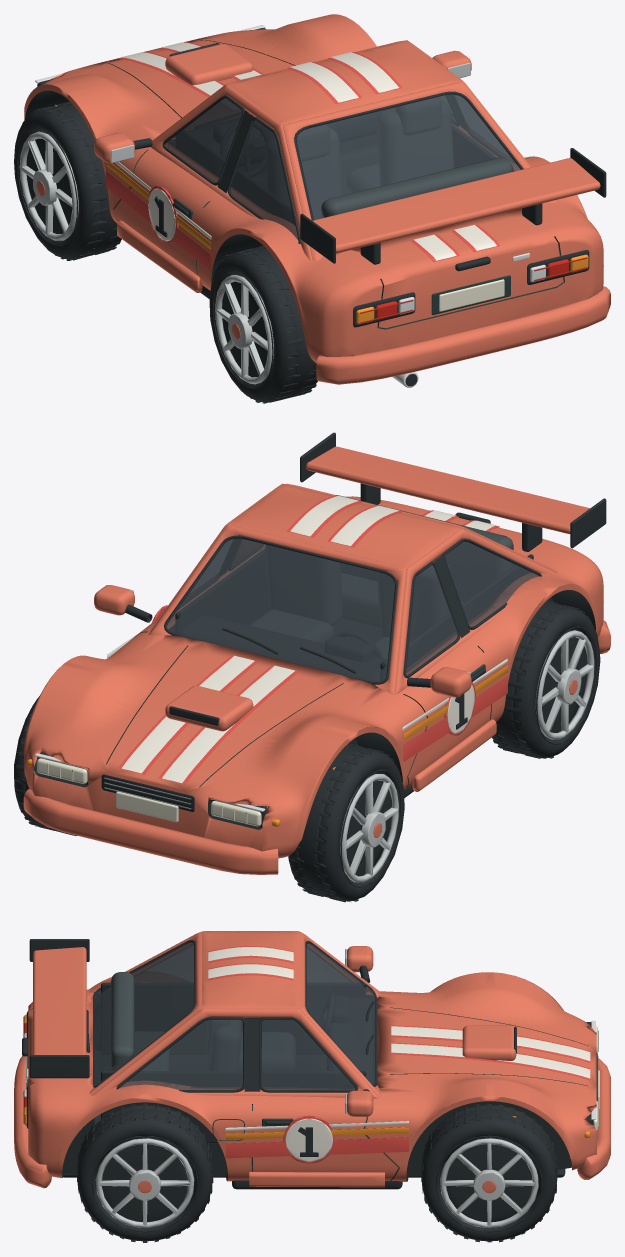
Rendered from zenith_lod1.fbx.
The picture shows the model from 3 angles, top to bottom: view 1: azimuth 30°, elevation 25°; view 2: azimuth 150°, elevation 25°; view 3: azimuth 270°, elevation 25°; orthographic projection. The views are drawn at different scales.
Visible parts, largest first — view 1: Body, Wheel_RL_Mesh, Wheel_FL_Mesh; view 2: Body, Wheel_FL_Mesh, Wheel_RL_Mesh, Wheel_FR_Mesh; view 3: Body, Wheel_RR_Mesh, Wheel_FR_Mesh.
Boxes of the visible parts, <box> form: Body: <box>24,14,610,387</box>; Wheel_RL_Mesh: <box>209,245,317,403</box>; Wheel_FL_Mesh: <box>14,101,121,260</box>; Body: <box>23,432,610,874</box>; Wheel_FL_Mesh: <box>288,743,404,902</box>; Wheel_RL_Mesh: <box>492,601,600,758</box>; Wheel_FR_Mesh: <box>14,696,77,835</box>; Body: <box>14,931,610,1189</box>; Wheel_RR_Mesh: <box>77,1103,213,1242</box>; Wheel_FR_Mesh: <box>421,1103,557,1242</box>.
Size of the model in its own units: 237 by 151 by 378.
